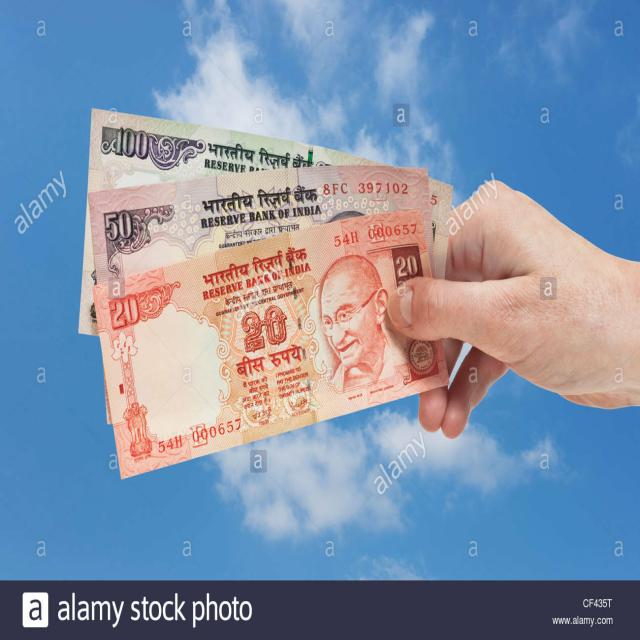20IndianRupees: (93, 209, 447, 481)
